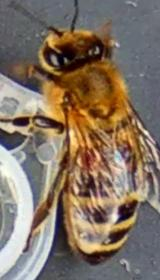varroa_mite: (70, 140, 104, 174)
